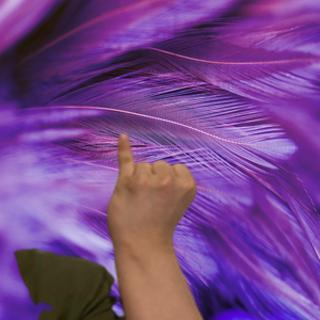FINE: (101, 129, 200, 256)
